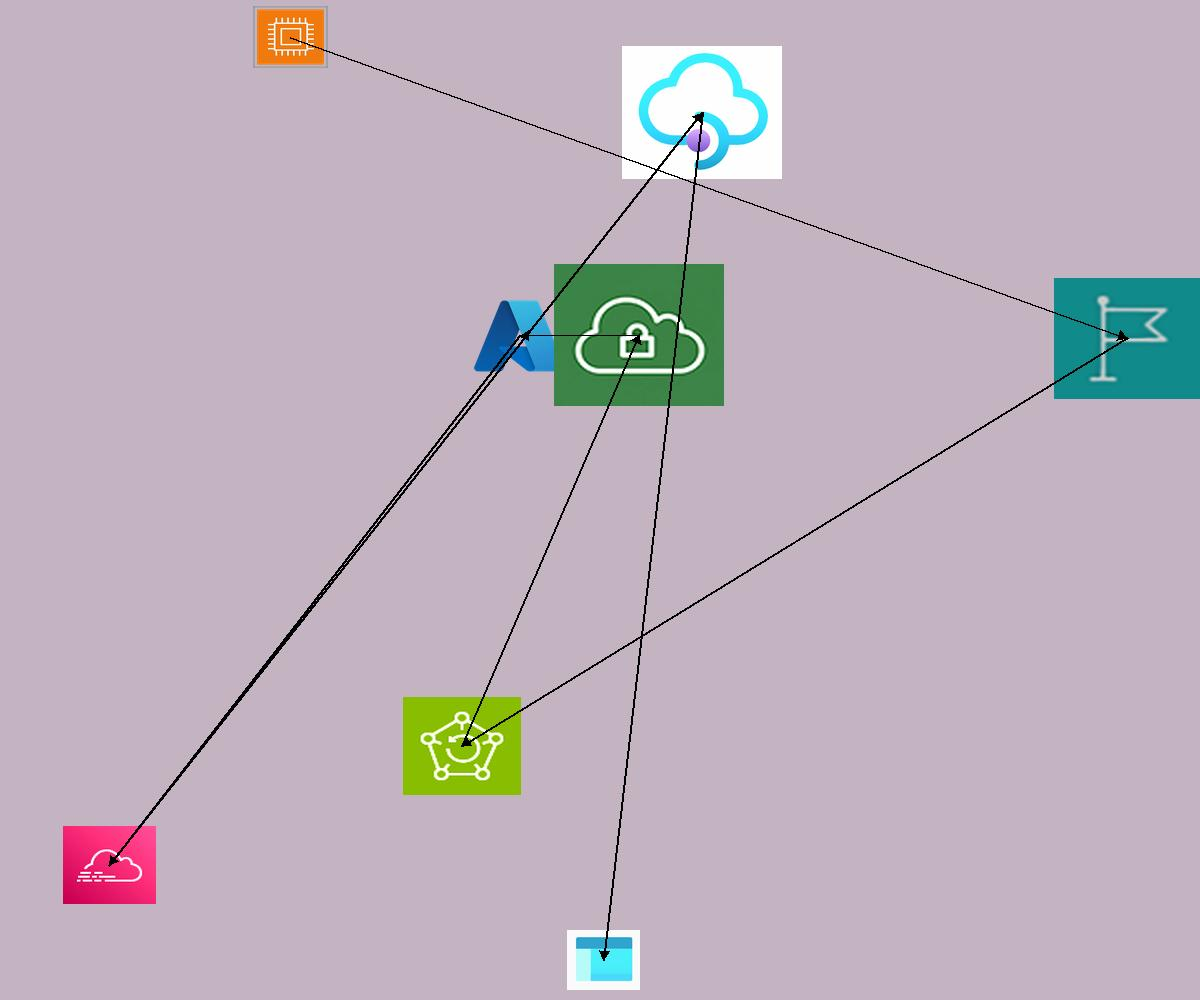AWS-Backup: (403, 697, 521, 795)
AWS-Category_Compute: (253, 6, 328, 68)
AWS-CloudTrail: (63, 826, 156, 904)
AWS-Private_vpc: (554, 264, 724, 406)
AWS-Region: (1054, 278, 1200, 399)
Azure_api_gateway: (622, 46, 782, 179)
Azure_management-portal: (567, 930, 640, 990)
Azure_services: (470, 295, 569, 377)
